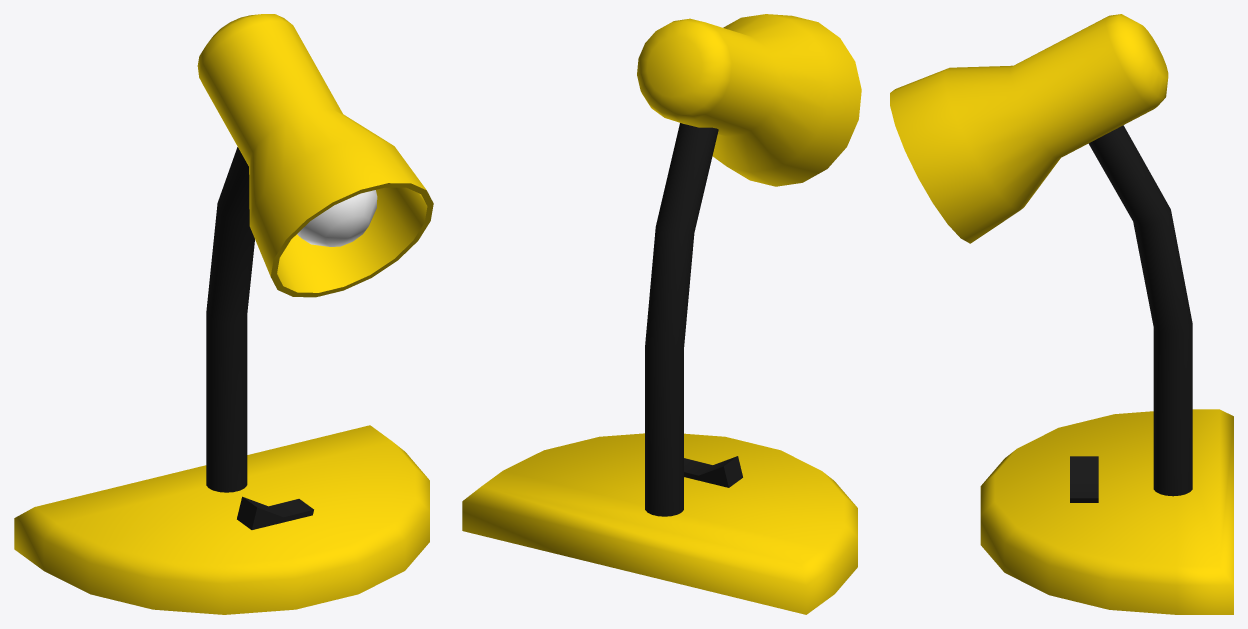
The model's file is 25_desk_lamp.FBX.
3 views of the same model, side by side, from view 1: azimuth 30°, elevation 25°; view 2: azimuth 150°, elevation 25°; view 3: azimuth 270°, elevation 25° (orthographic). The views are drawn at different scales.
Parts seen in each view (by area): view 1: Cylinder01; view 2: Cylinder01; view 3: Cylinder01.
Part boxes in pixels (x1,y1,x2,y2): Cylinder01: (14, 14, 433, 614); Cylinder01: (462, 14, 861, 614); Cylinder01: (890, 14, 1233, 614).
Size of the model in its own units: 14 by 19.74 by 12.05.
